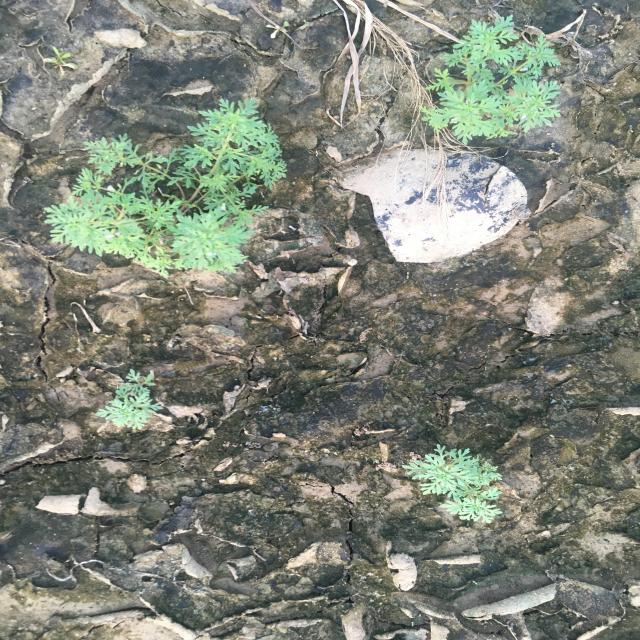Ragweed: (42, 95, 289, 282), (416, 12, 564, 146), (400, 443, 505, 526), (93, 367, 166, 434)
